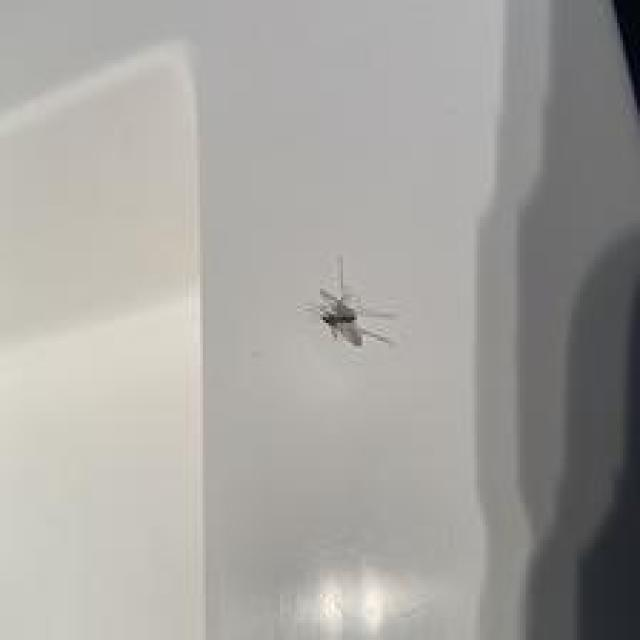Culex: (297, 253, 397, 350)
